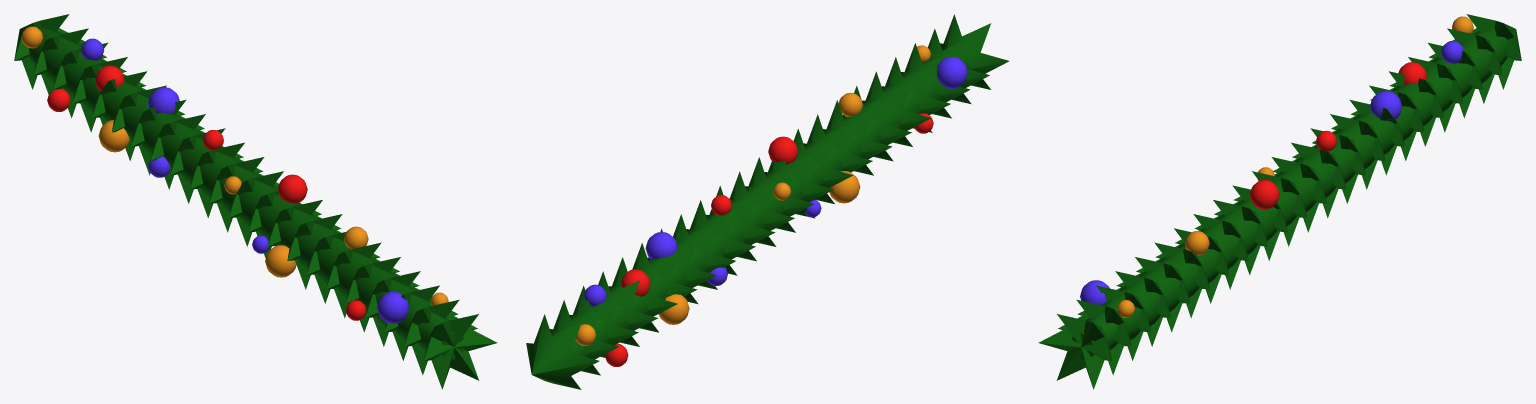
File: christmas deco2.FBX
The picture shows the model from 3 angles, left to right: view 1: azimuth 30°, elevation 25°; view 2: azimuth 150°, elevation 25°; view 3: azimuth 330°, elevation 25°; orthographic projection.
Visible parts, largest first — view 1: Cylinder147; view 2: Cylinder147; view 3: Cylinder147.
Part boxes in pixels (x1,y1,x2,y2): Cylinder147: (14,14,497,389); Cylinder147: (526,14,1009,389); Cylinder147: (1038,14,1521,389).
Size of the model in its own units: 0.5703 by 0.541 by 5.7.
